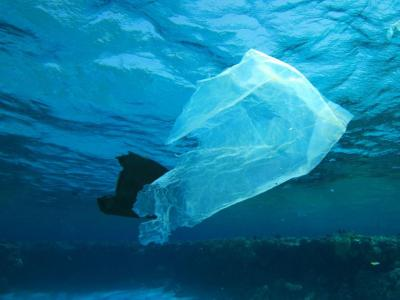litter: (133, 50, 355, 242)
